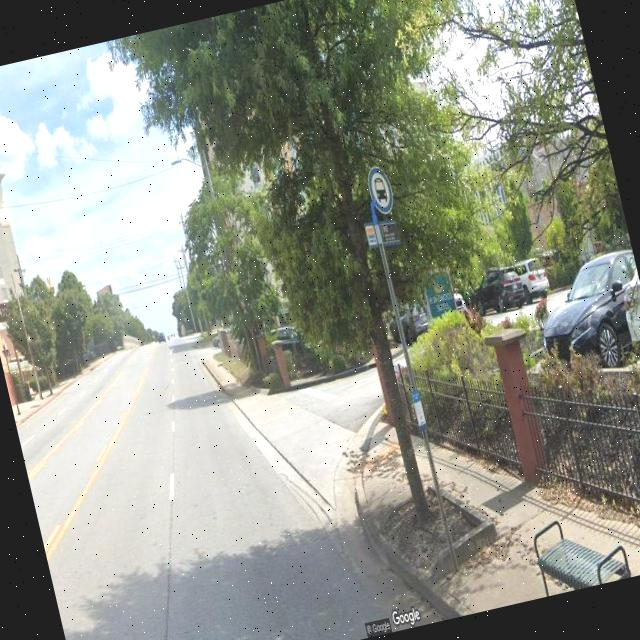seating: (528, 506, 630, 596)
